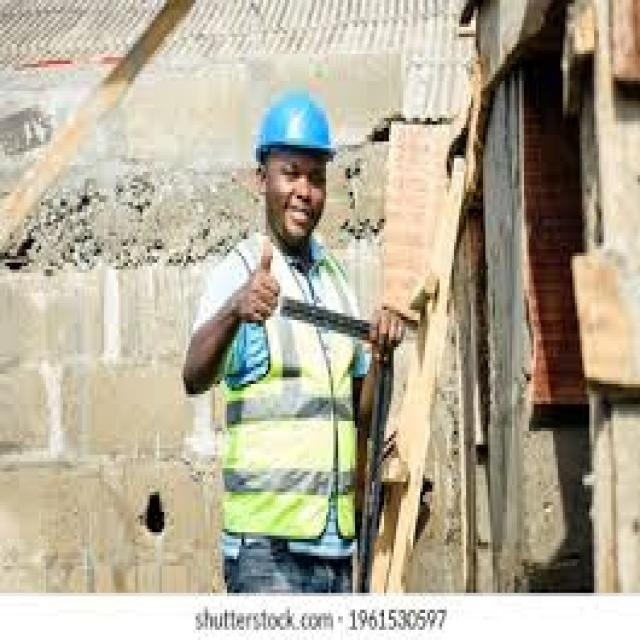Reflective-Jacket: (203, 225, 377, 556)
Safety-Helmet: (239, 74, 353, 179)
